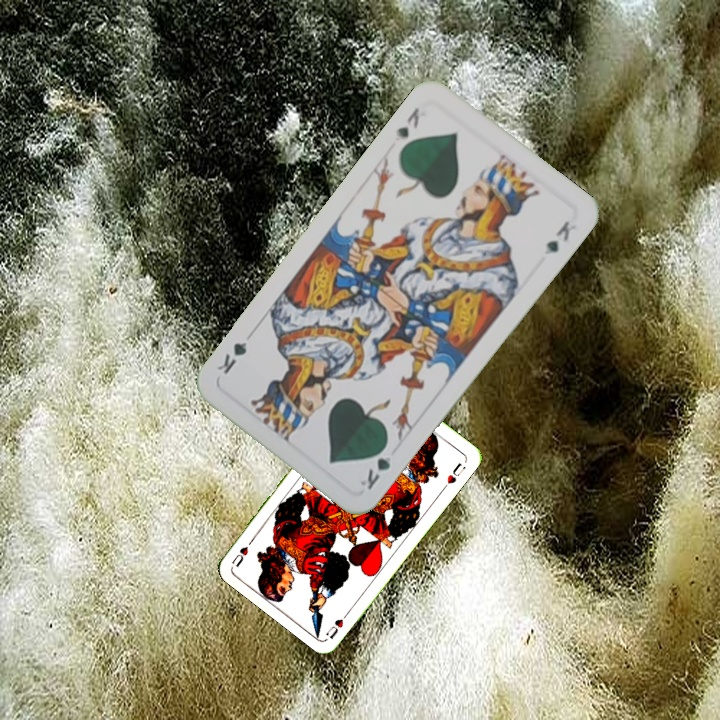GK: (356, 438, 394, 493), (391, 103, 423, 141)
HU: (322, 606, 352, 641)
